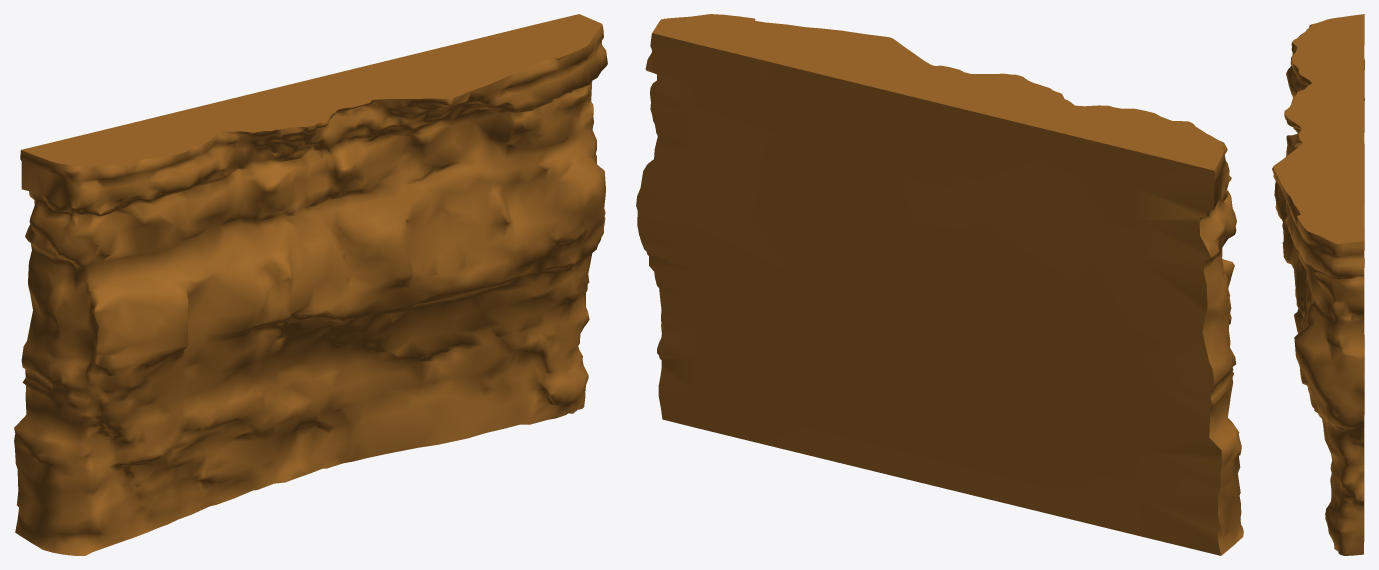
The model's file is MSH_Rocks_Cliff_26_a.FBX.
3 renders of one model, left to right at view 1: azimuth 30°, elevation 25°; view 2: azimuth 150°, elevation 25°; view 3: azimuth 270°, elevation 25°, orthographic. The views are drawn at different scales.
Parts seen in each view (by area): view 1: MESH_LOD0, CAP_LOD0; view 2: CAP_LOD0, MESH_LOD0; view 3: MESH_LOD0, CAP_LOD0.
Part boxes in pixels (left/top/right/bottom): MESH_LOD0: left=14, top=24, right=607, bottom=555; CAP_LOD0: left=21, top=14, right=602, bottom=166; CAP_LOD0: left=636, top=14, right=1223, bottom=555; MESH_LOD0: left=646, top=53, right=1243, bottom=555; MESH_LOD0: left=1272, top=24, right=1364, bottom=555; CAP_LOD0: left=1273, top=14, right=1364, bottom=541.
Size of what is drawn, in the model's own units: 1055 by 661 by 175.
